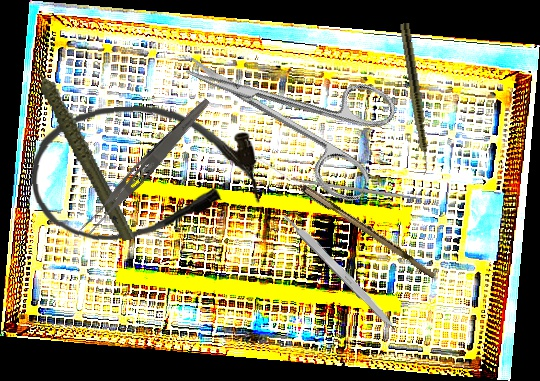Cannula: (27, 100, 262, 244)
Dressing Forceps: (76, 91, 214, 241)
Handpiece: (29, 39, 137, 253), (397, 22, 434, 176)
Iris Scissors: (165, 9, 407, 207)
Scalpel Handle: (279, 208, 401, 333), (290, 176, 422, 203)
Surgical Spoon: (252, 153, 439, 279)
